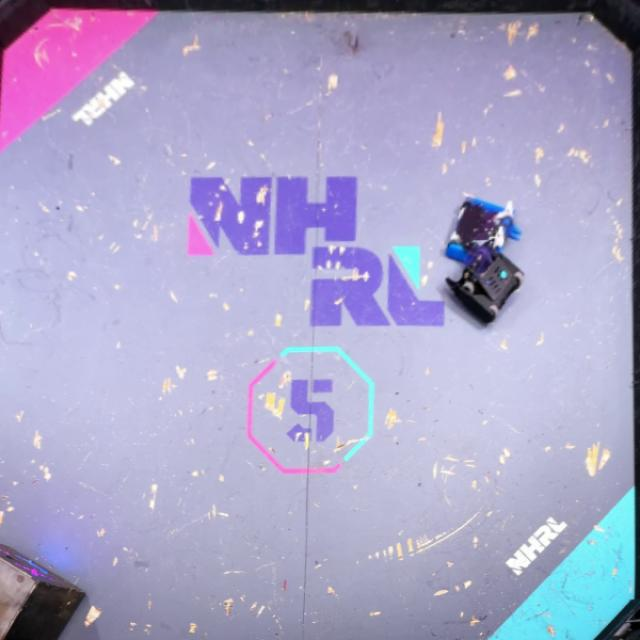housebot: (0, 545, 85, 640)
robot: (446, 242, 527, 329), (442, 190, 523, 266)
